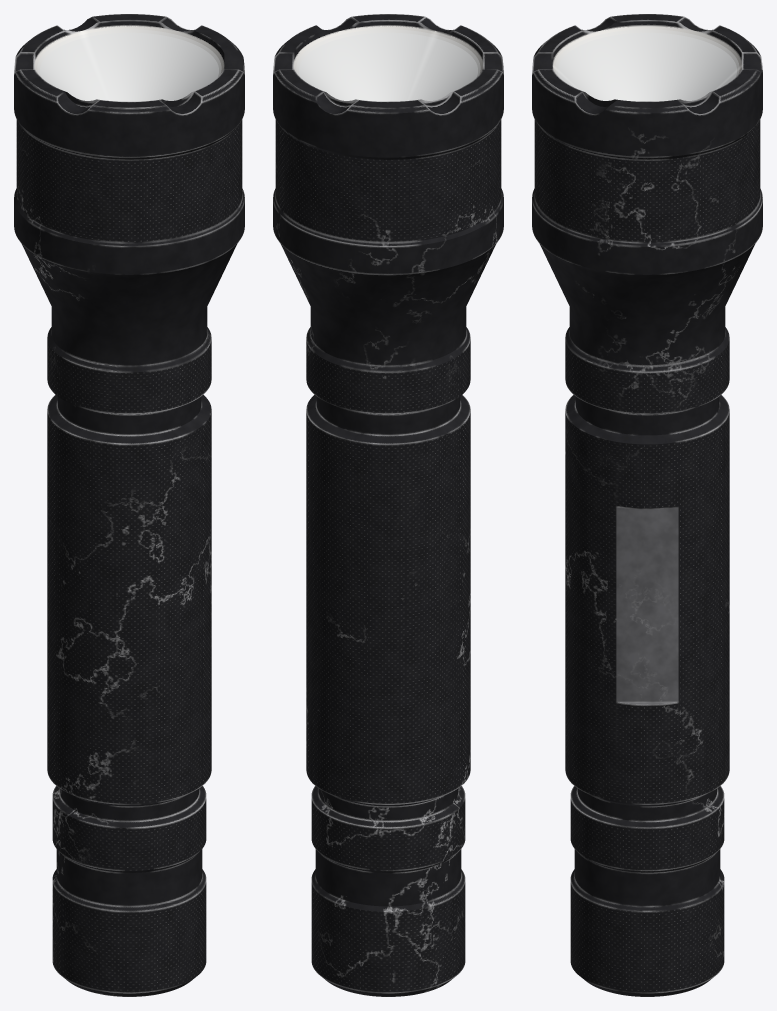
File: Flashlight_Game.glb
The picture shows the model from 3 angles, left to right: view 1: azimuth 30°, elevation 25°; view 2: azimuth 150°, elevation 25°; view 3: azimuth 270°, elevation 25°; orthographic projection.
Visible parts, largest first — view 1: Flashlight_Body, Flashlight_Lens; view 2: Flashlight_Body, Flashlight_Lens; view 3: Flashlight_Body, Flashlight_Lens.
Part boxes in pixels (x1,y1,x2,y2): Flashlight_Body: (14, 14, 244, 996); Flashlight_Lens: (37, 29, 221, 101); Flashlight_Body: (273, 14, 503, 996); Flashlight_Lens: (296, 29, 480, 101); Flashlight_Body: (532, 14, 762, 996); Flashlight_Lens: (555, 29, 739, 101).
Bounding box in the file's own units: 0.054 × 0.234 × 0.054.
3 materials, 1 textured.
